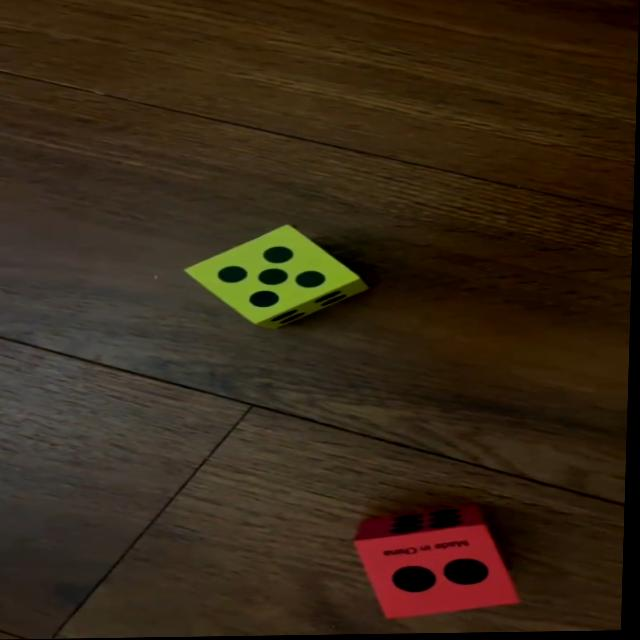cube: (358, 505, 527, 622)
